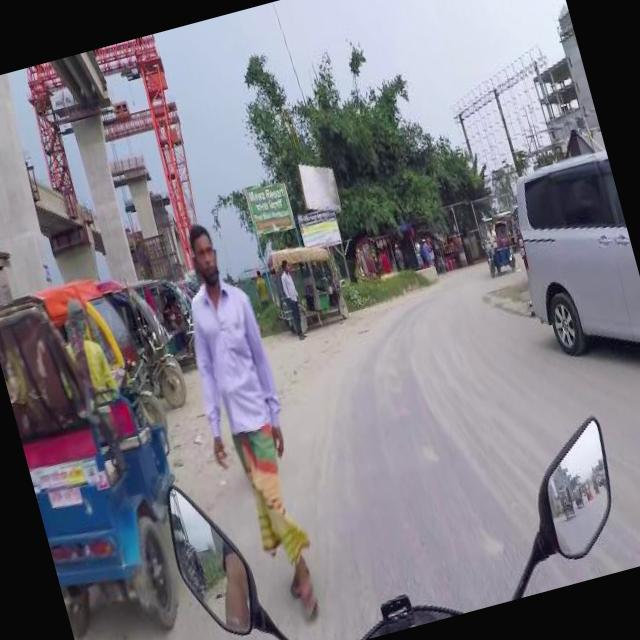motorcycle: (0, 274, 201, 640), (42, 260, 170, 456), (102, 262, 190, 418), (264, 234, 352, 335), (132, 266, 202, 369), (474, 214, 519, 275)
truck: (501, 147, 640, 371)
